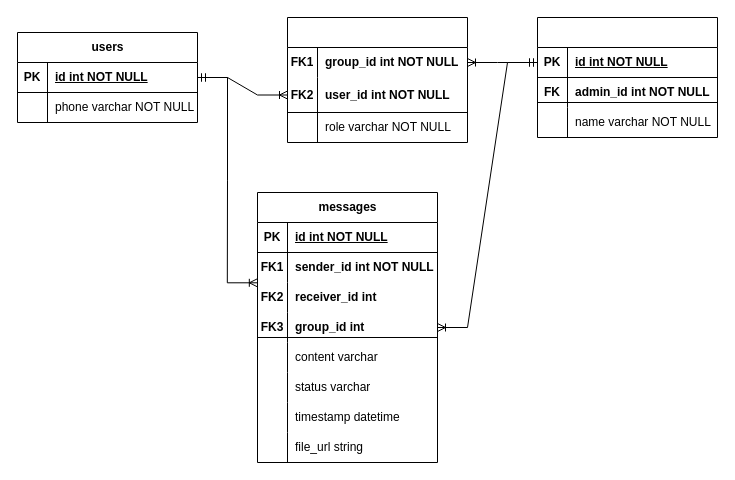
The diagram is 735 pixels wide and 480 high, and some of its shapes have lost their labels. The shapes that lost their labels are listed below. From the top down, each one's box as (x1, y1, x2, y2) in pixels, then its label:
(286, 16, 468, 142): group_member
(536, 16, 718, 138): groups
